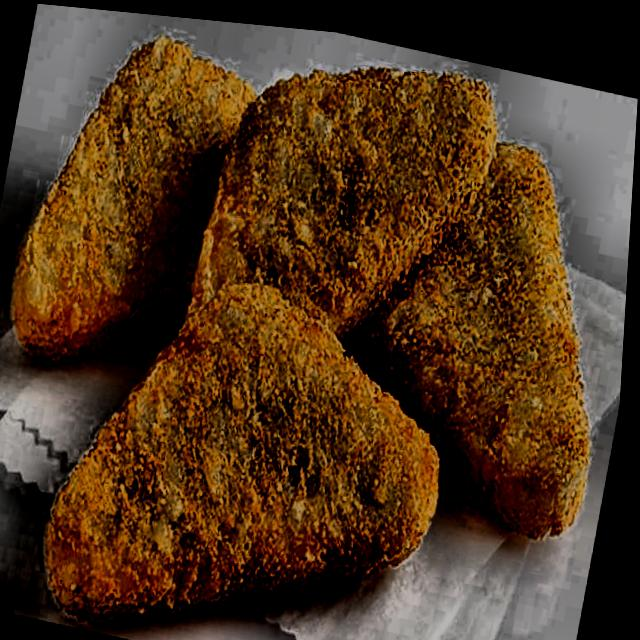Food: (0, 10, 640, 640)
